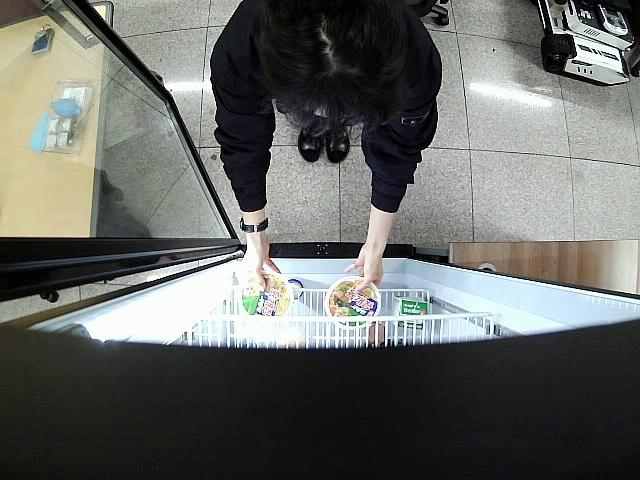00_hand: (239, 243, 279, 292), (345, 251, 383, 295)
09_yukGaeJang: (325, 277, 381, 329), (242, 271, 294, 318)
